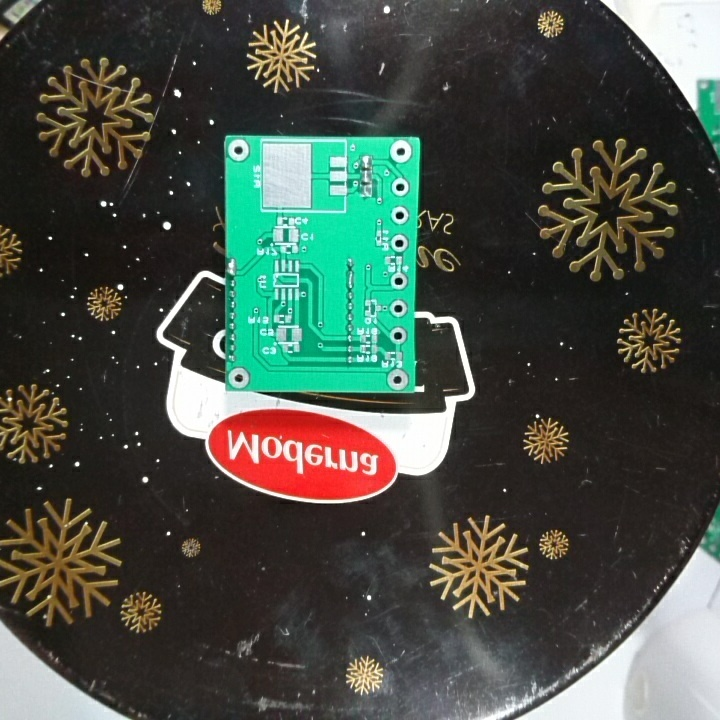F: (388, 138, 414, 166), (383, 366, 411, 392), (226, 136, 250, 166), (227, 365, 251, 390), (388, 175, 411, 198), (389, 204, 411, 227), (388, 231, 411, 253), (388, 298, 410, 320), (388, 269, 409, 292), (388, 325, 409, 346)
P: (225, 255, 239, 275), (344, 269, 357, 290)
